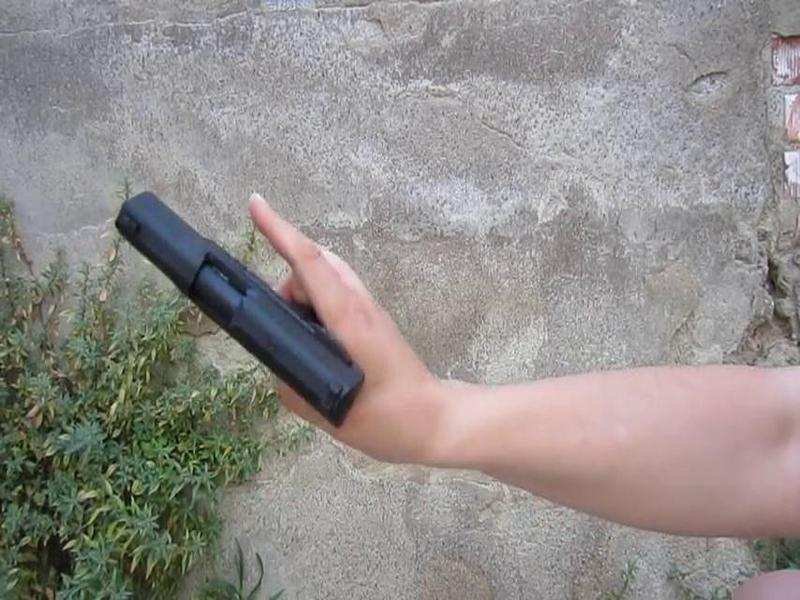Pistola: (112, 182, 384, 444)
